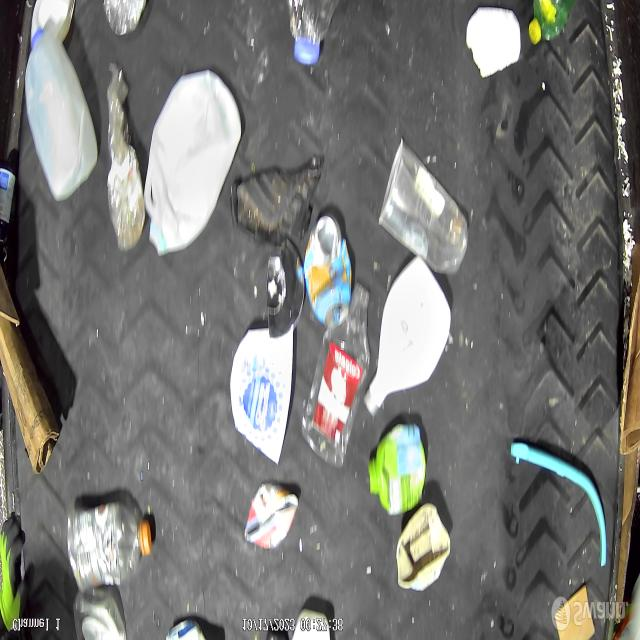can: (303, 217, 352, 328), (244, 482, 299, 551)
milk_jug: (146, 70, 242, 259), (23, 29, 99, 200)
plastic_bottle: (306, 281, 372, 463), (68, 498, 153, 590)
